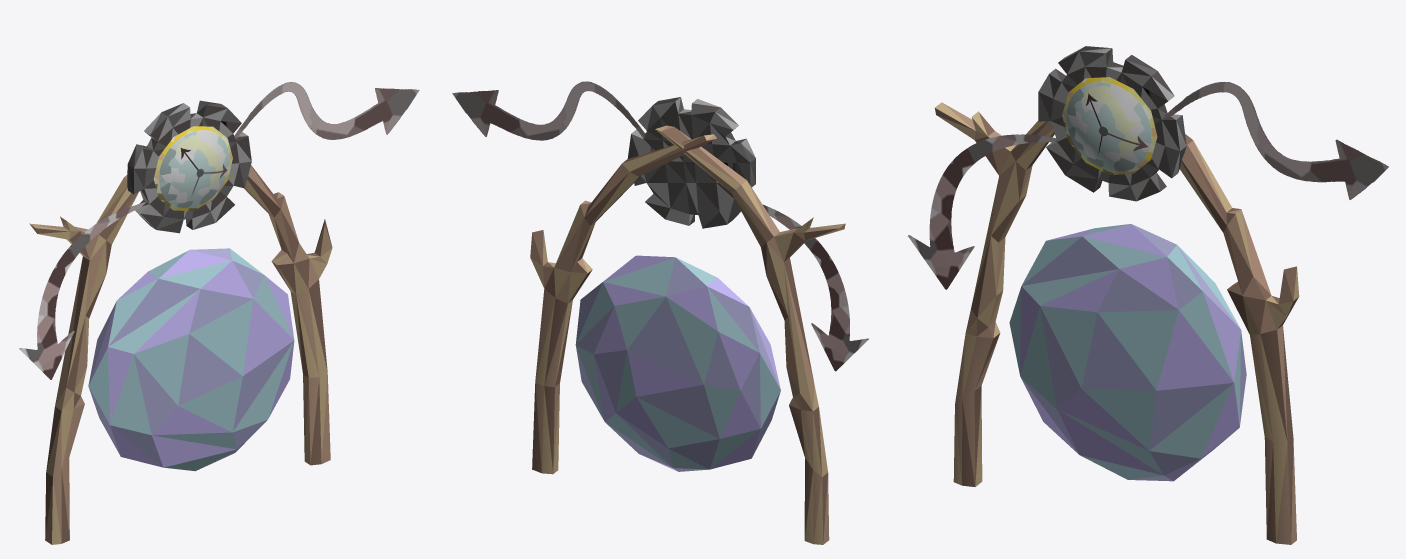
Rendered from Isla_Mecanica_Portal.FBX.
The picture shows the model from 3 angles, left to right: view 1: azimuth 30°, elevation 25°; view 2: azimuth 150°, elevation 25°; view 3: azimuth 330°, elevation 25°; orthographic projection. The views are drawn at different scales.
Parts seen in each view (by area): view 1: Isla_Mecanica_Portal_centro, Isla_Mecanica_Portal, Isla_Mecanica_Portal_reloj; view 2: Isla_Mecanica_Portal, Isla_Mecanica_Portal_centro; view 3: Isla_Mecanica_Portal_centro, Isla_Mecanica_Portal, Isla_Mecanica_Portal_reloj.
Part boxes in pixels (bbox=[...]): Isla_Mecanica_Portal_centro: bbox=[88, 248, 294, 471]; Isla_Mecanica_Portal: bbox=[19, 82, 419, 544]; Isla_Mecanica_Portal_reloj: bbox=[153, 126, 232, 210]; Isla_Mecanica_Portal: bbox=[452, 81, 868, 544]; Isla_Mecanica_Portal_centro: bbox=[575, 255, 780, 471]; Isla_Mecanica_Portal_centro: bbox=[1009, 224, 1246, 481]; Isla_Mecanica_Portal: bbox=[908, 46, 1388, 544]; Isla_Mecanica_Portal_reloj: bbox=[1062, 77, 1157, 174].
Bounding box in the file's own units: 81.84 × 87.89 × 9.8.
1 material, 1 textured.
